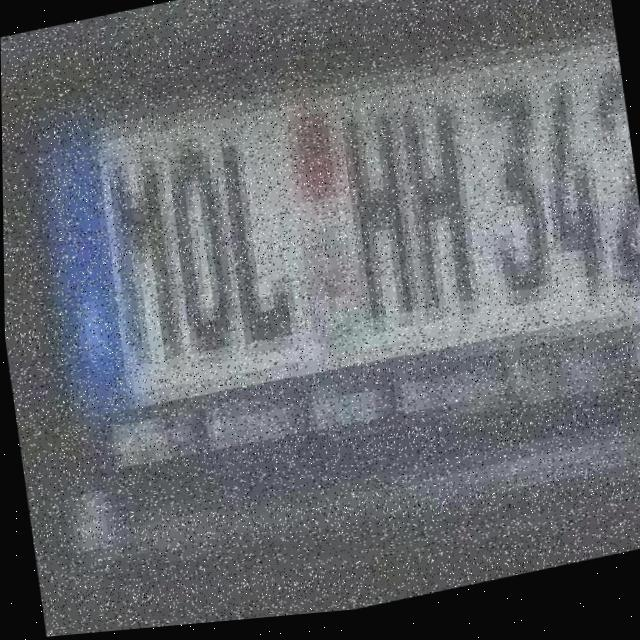LicensePlate: (14, 0, 640, 504)
